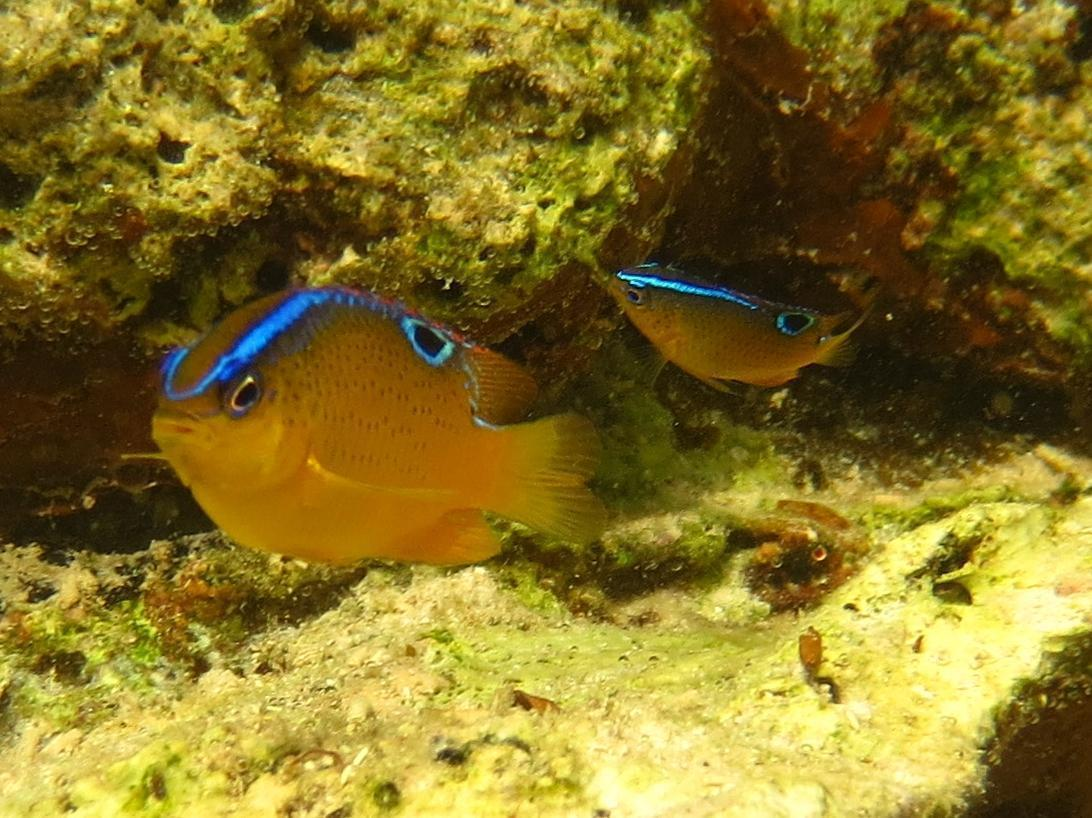Fish: (93, 274, 623, 646), (559, 234, 892, 460)
